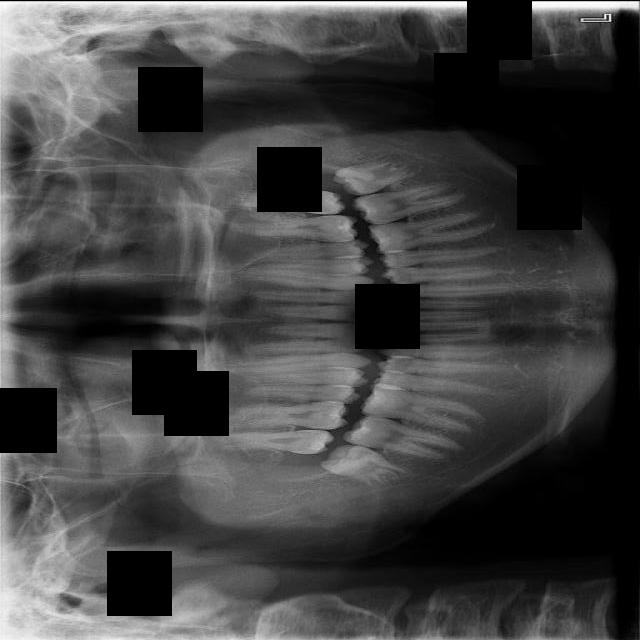73: (588, 17, 594, 21)
BioHorizons Implant: (223, 182, 348, 215)
Biomet 3i Implant: (331, 150, 419, 201)
Blue Sky Bio Implant: (352, 177, 470, 228)
Caries: (205, 427, 334, 454)
Implant: (342, 409, 467, 465)
Keystone Dental Implant: (319, 434, 415, 496)
